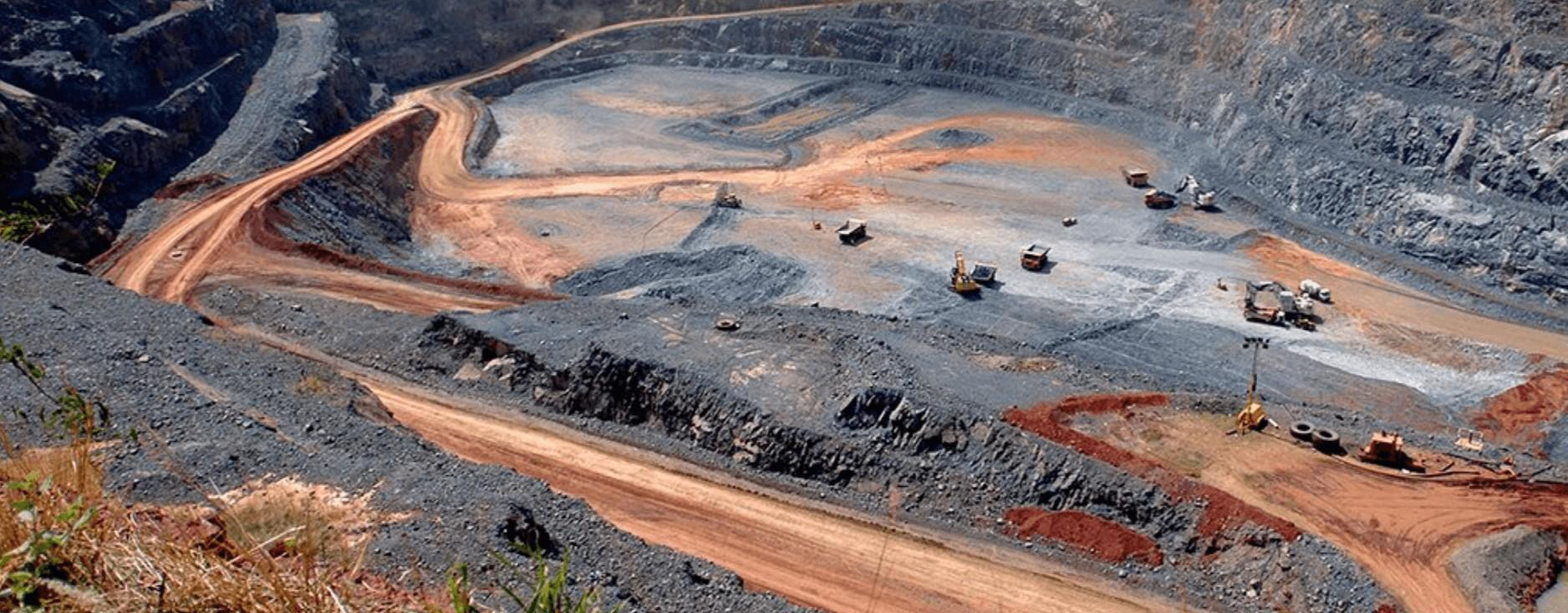ExcavationMachinery: (1240, 281, 1284, 326), (1174, 176, 1217, 213), (950, 250, 980, 295), (836, 217, 868, 246), (1020, 246, 1052, 271), (1144, 190, 1178, 210), (1300, 281, 1331, 301), (1121, 167, 1149, 188), (970, 262, 997, 283)
